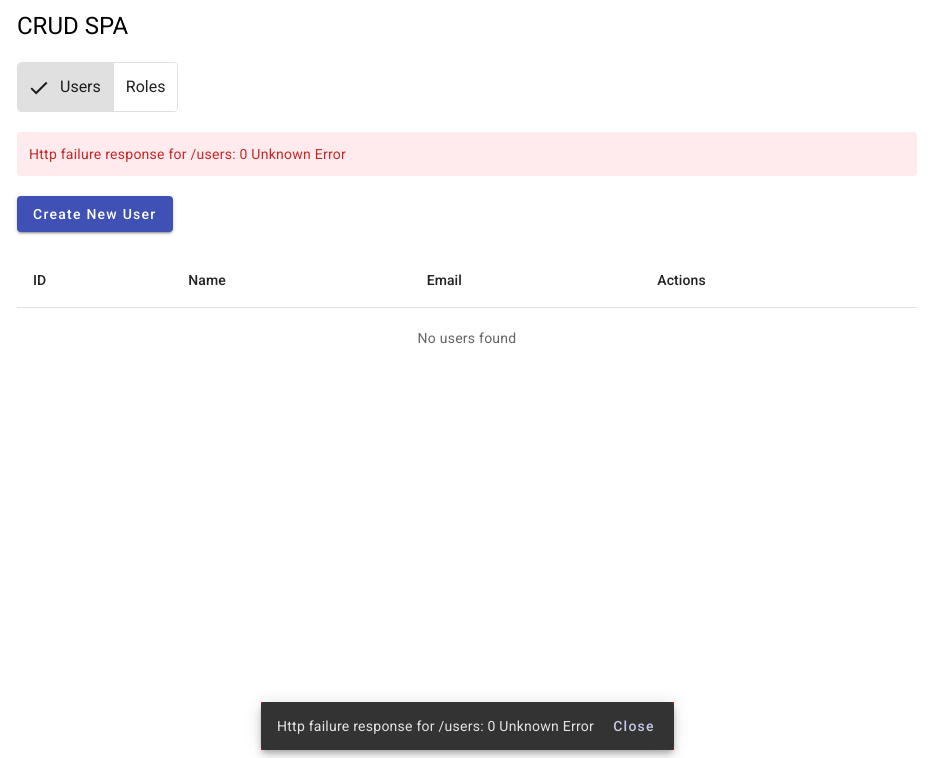
Test: Role CRUD SPA › US1: Navigation › should switch to Roles view when clicking Roles toggle
The image size is (934, 758).
Click the button "Roles" at (146,87), box x1=113 y1=63 x2=178 y2=111
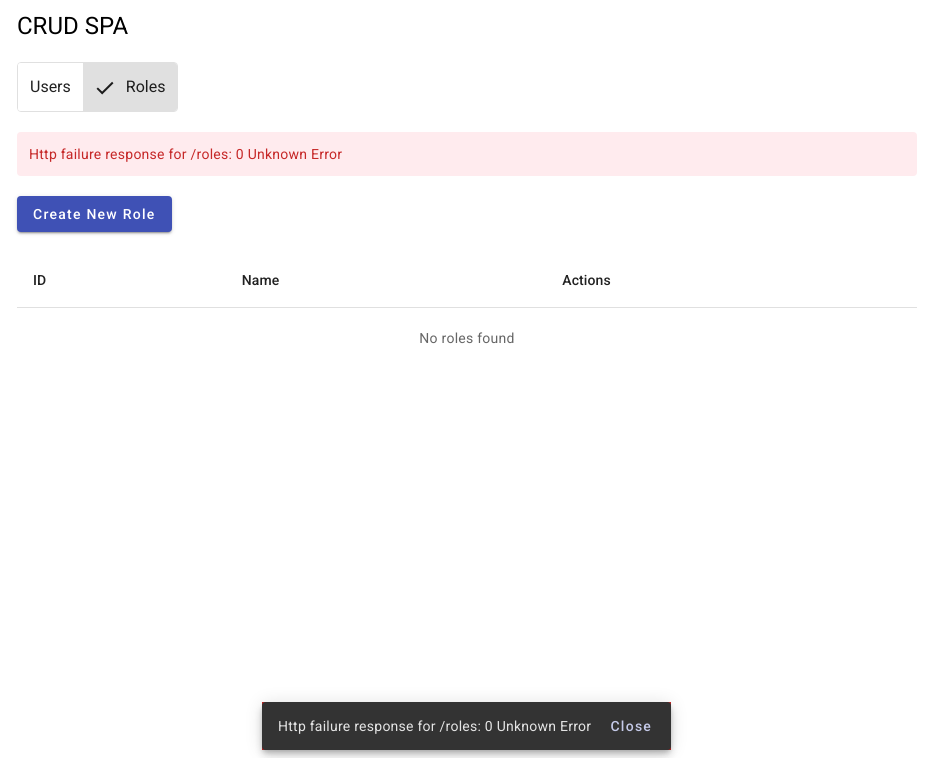
Expected: the button "Create New Role" is shown, x1=17 y1=196 x2=172 y2=232
Expected: the button "Create New User" is gone
